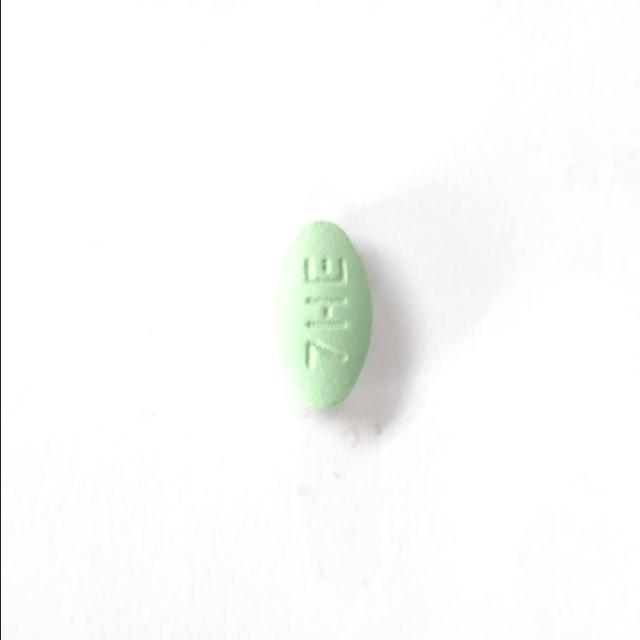pill: (260, 216, 376, 418)
